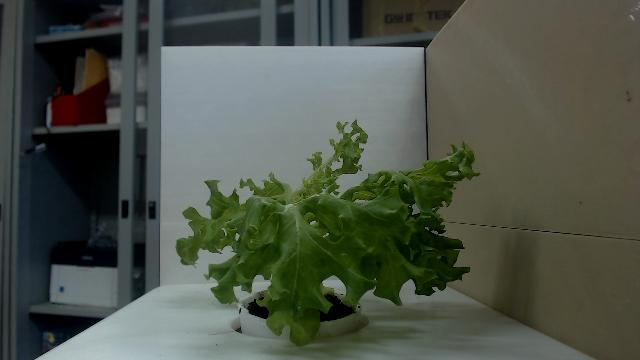Harvest Stage: (175, 116, 481, 350)
